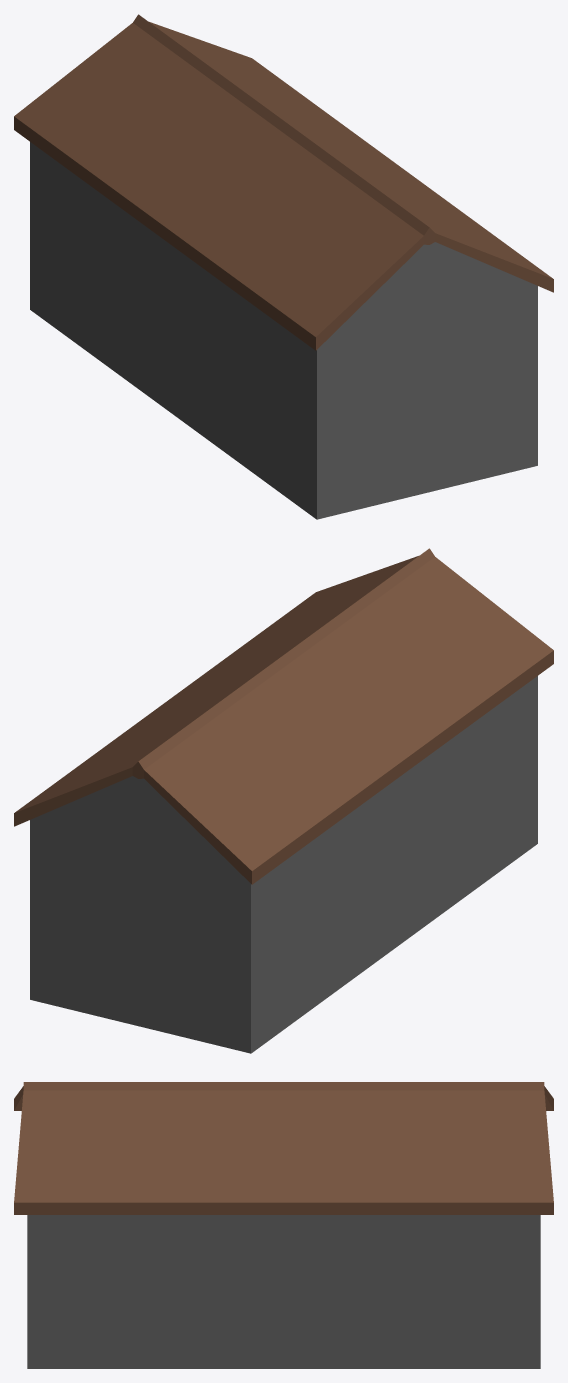
File: Room04.fbx
The picture shows the model from 3 angles, top to bottom: view 1: azimuth 30°, elevation 25°; view 2: azimuth 150°, elevation 25°; view 3: azimuth 270°, elevation 25°; orthographic projection. The views are drawn at different scales.
Visible parts, largest first — view 1: Room04; view 2: Room04; view 3: Room04.
Part boxes in pixels (bbox=[...]): Room04: bbox=[14, 14, 553, 519]; Room04: bbox=[14, 548, 553, 1053]; Room04: bbox=[14, 1082, 553, 1368].
Bounding box in the file's own units: 330 × 354 × 726.
